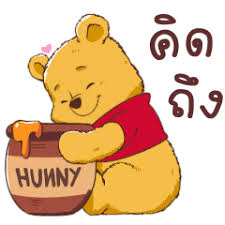Winnie: (24, 11, 162, 157)
